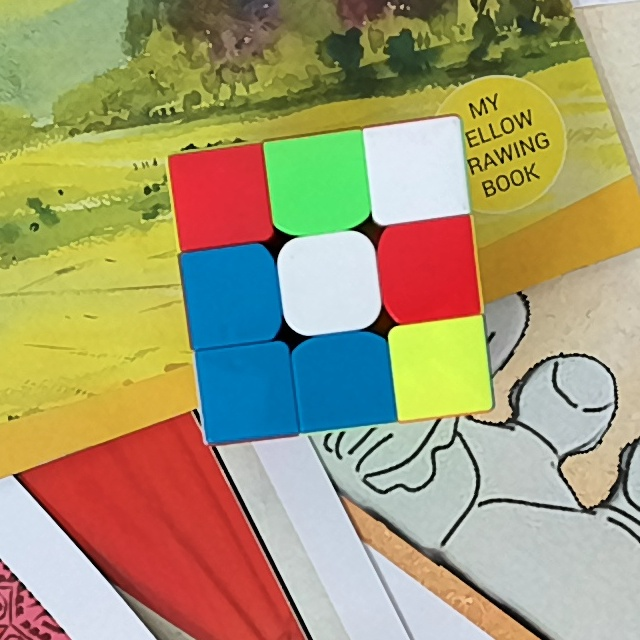tile: (180, 156, 263, 237), (378, 129, 458, 212), (189, 255, 271, 335), (390, 229, 470, 309), (204, 353, 287, 429), (276, 144, 361, 217), (288, 245, 369, 318), (400, 332, 479, 406), (306, 345, 384, 418)
